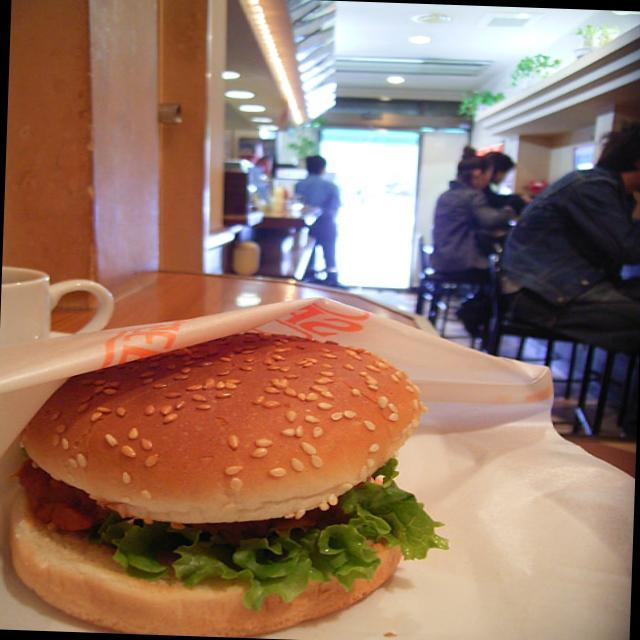Hamburger: (0, 300, 473, 640)
